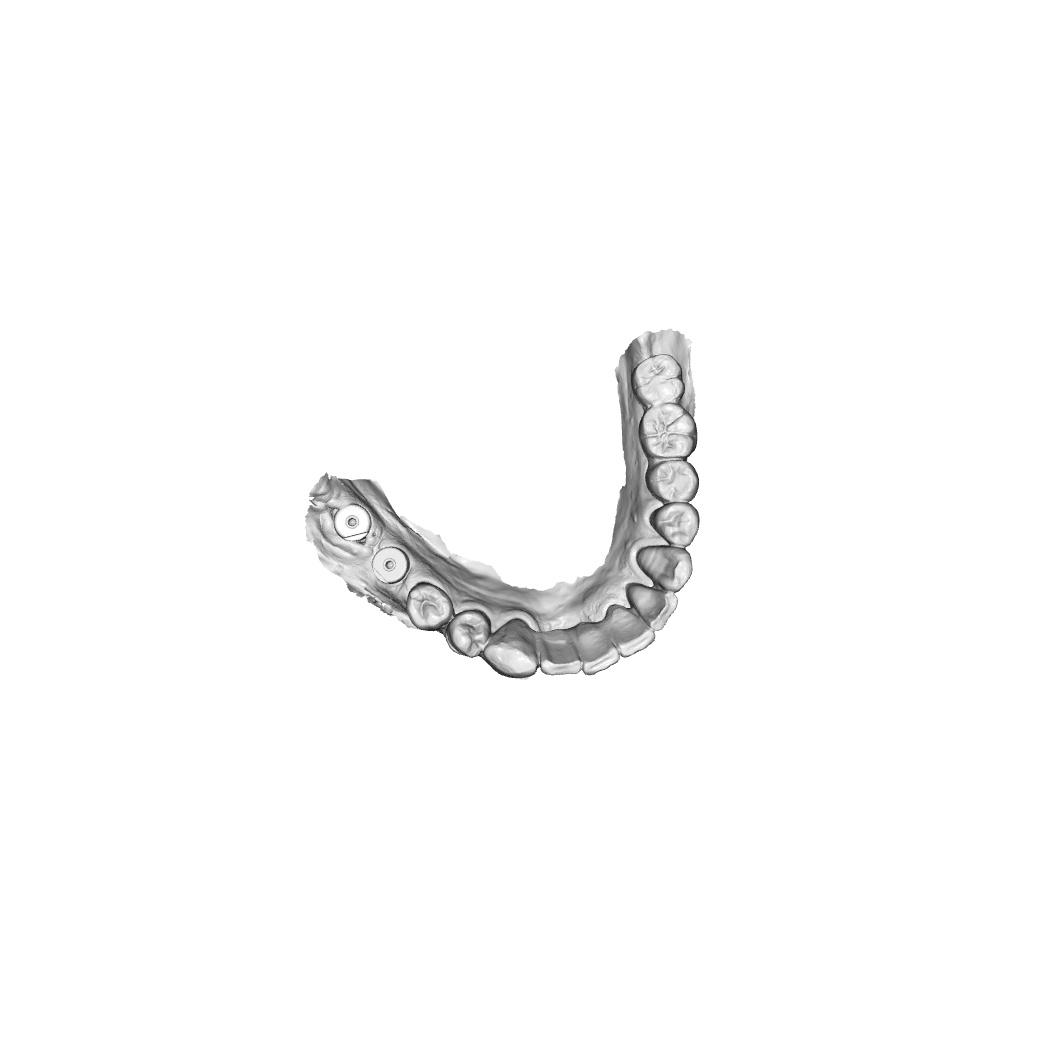canine: (482, 618, 539, 680), (635, 544, 693, 593)
implant: (371, 546, 411, 585), (333, 503, 373, 541)
incisor: (539, 628, 582, 676), (582, 639, 621, 678), (643, 590, 679, 632), (616, 622, 657, 658)
molar: (638, 404, 699, 459), (630, 353, 686, 406)
premolar: (648, 501, 701, 548), (406, 581, 454, 632), (644, 460, 700, 503), (445, 609, 491, 659)
